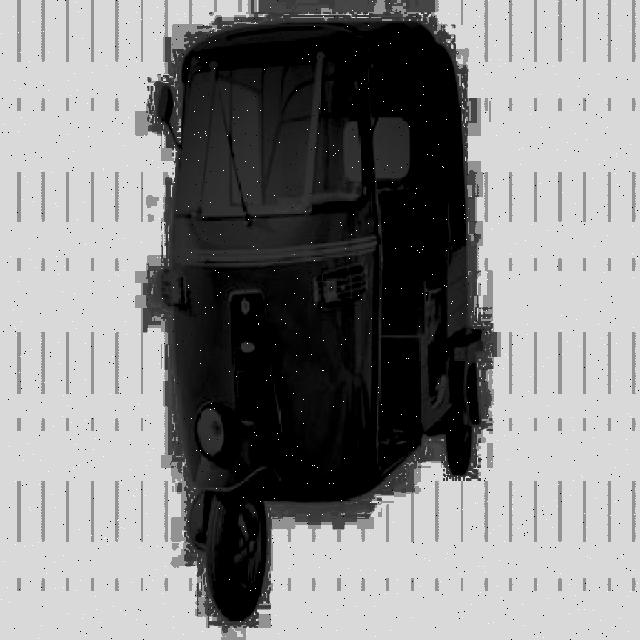Auto-Rickshaw: (151, 17, 486, 622)
